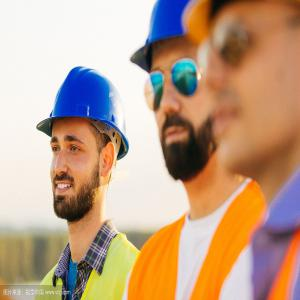blue: (145, 4, 221, 187), (47, 65, 126, 224)
